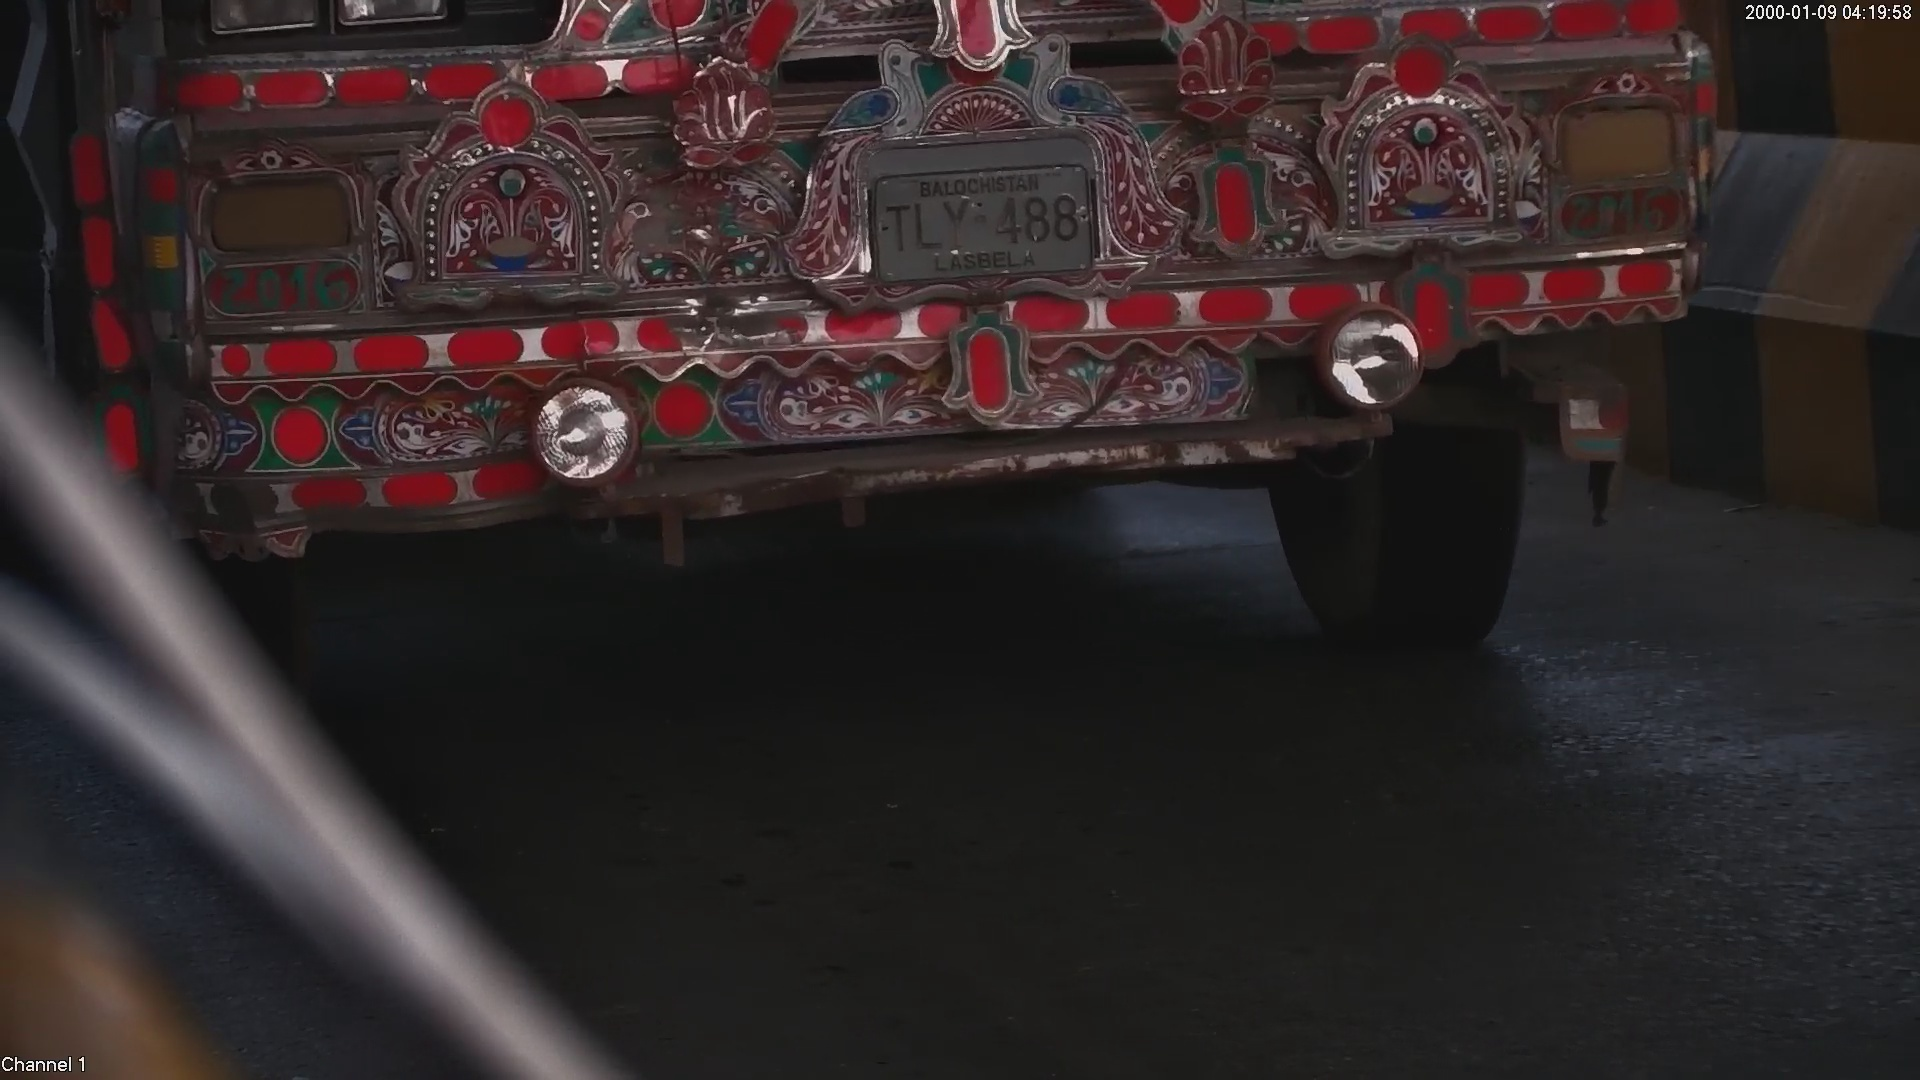Number_Plate: (841, 120, 1110, 299)
Undefined: (1297, 64, 1689, 257), (171, 151, 602, 325)
